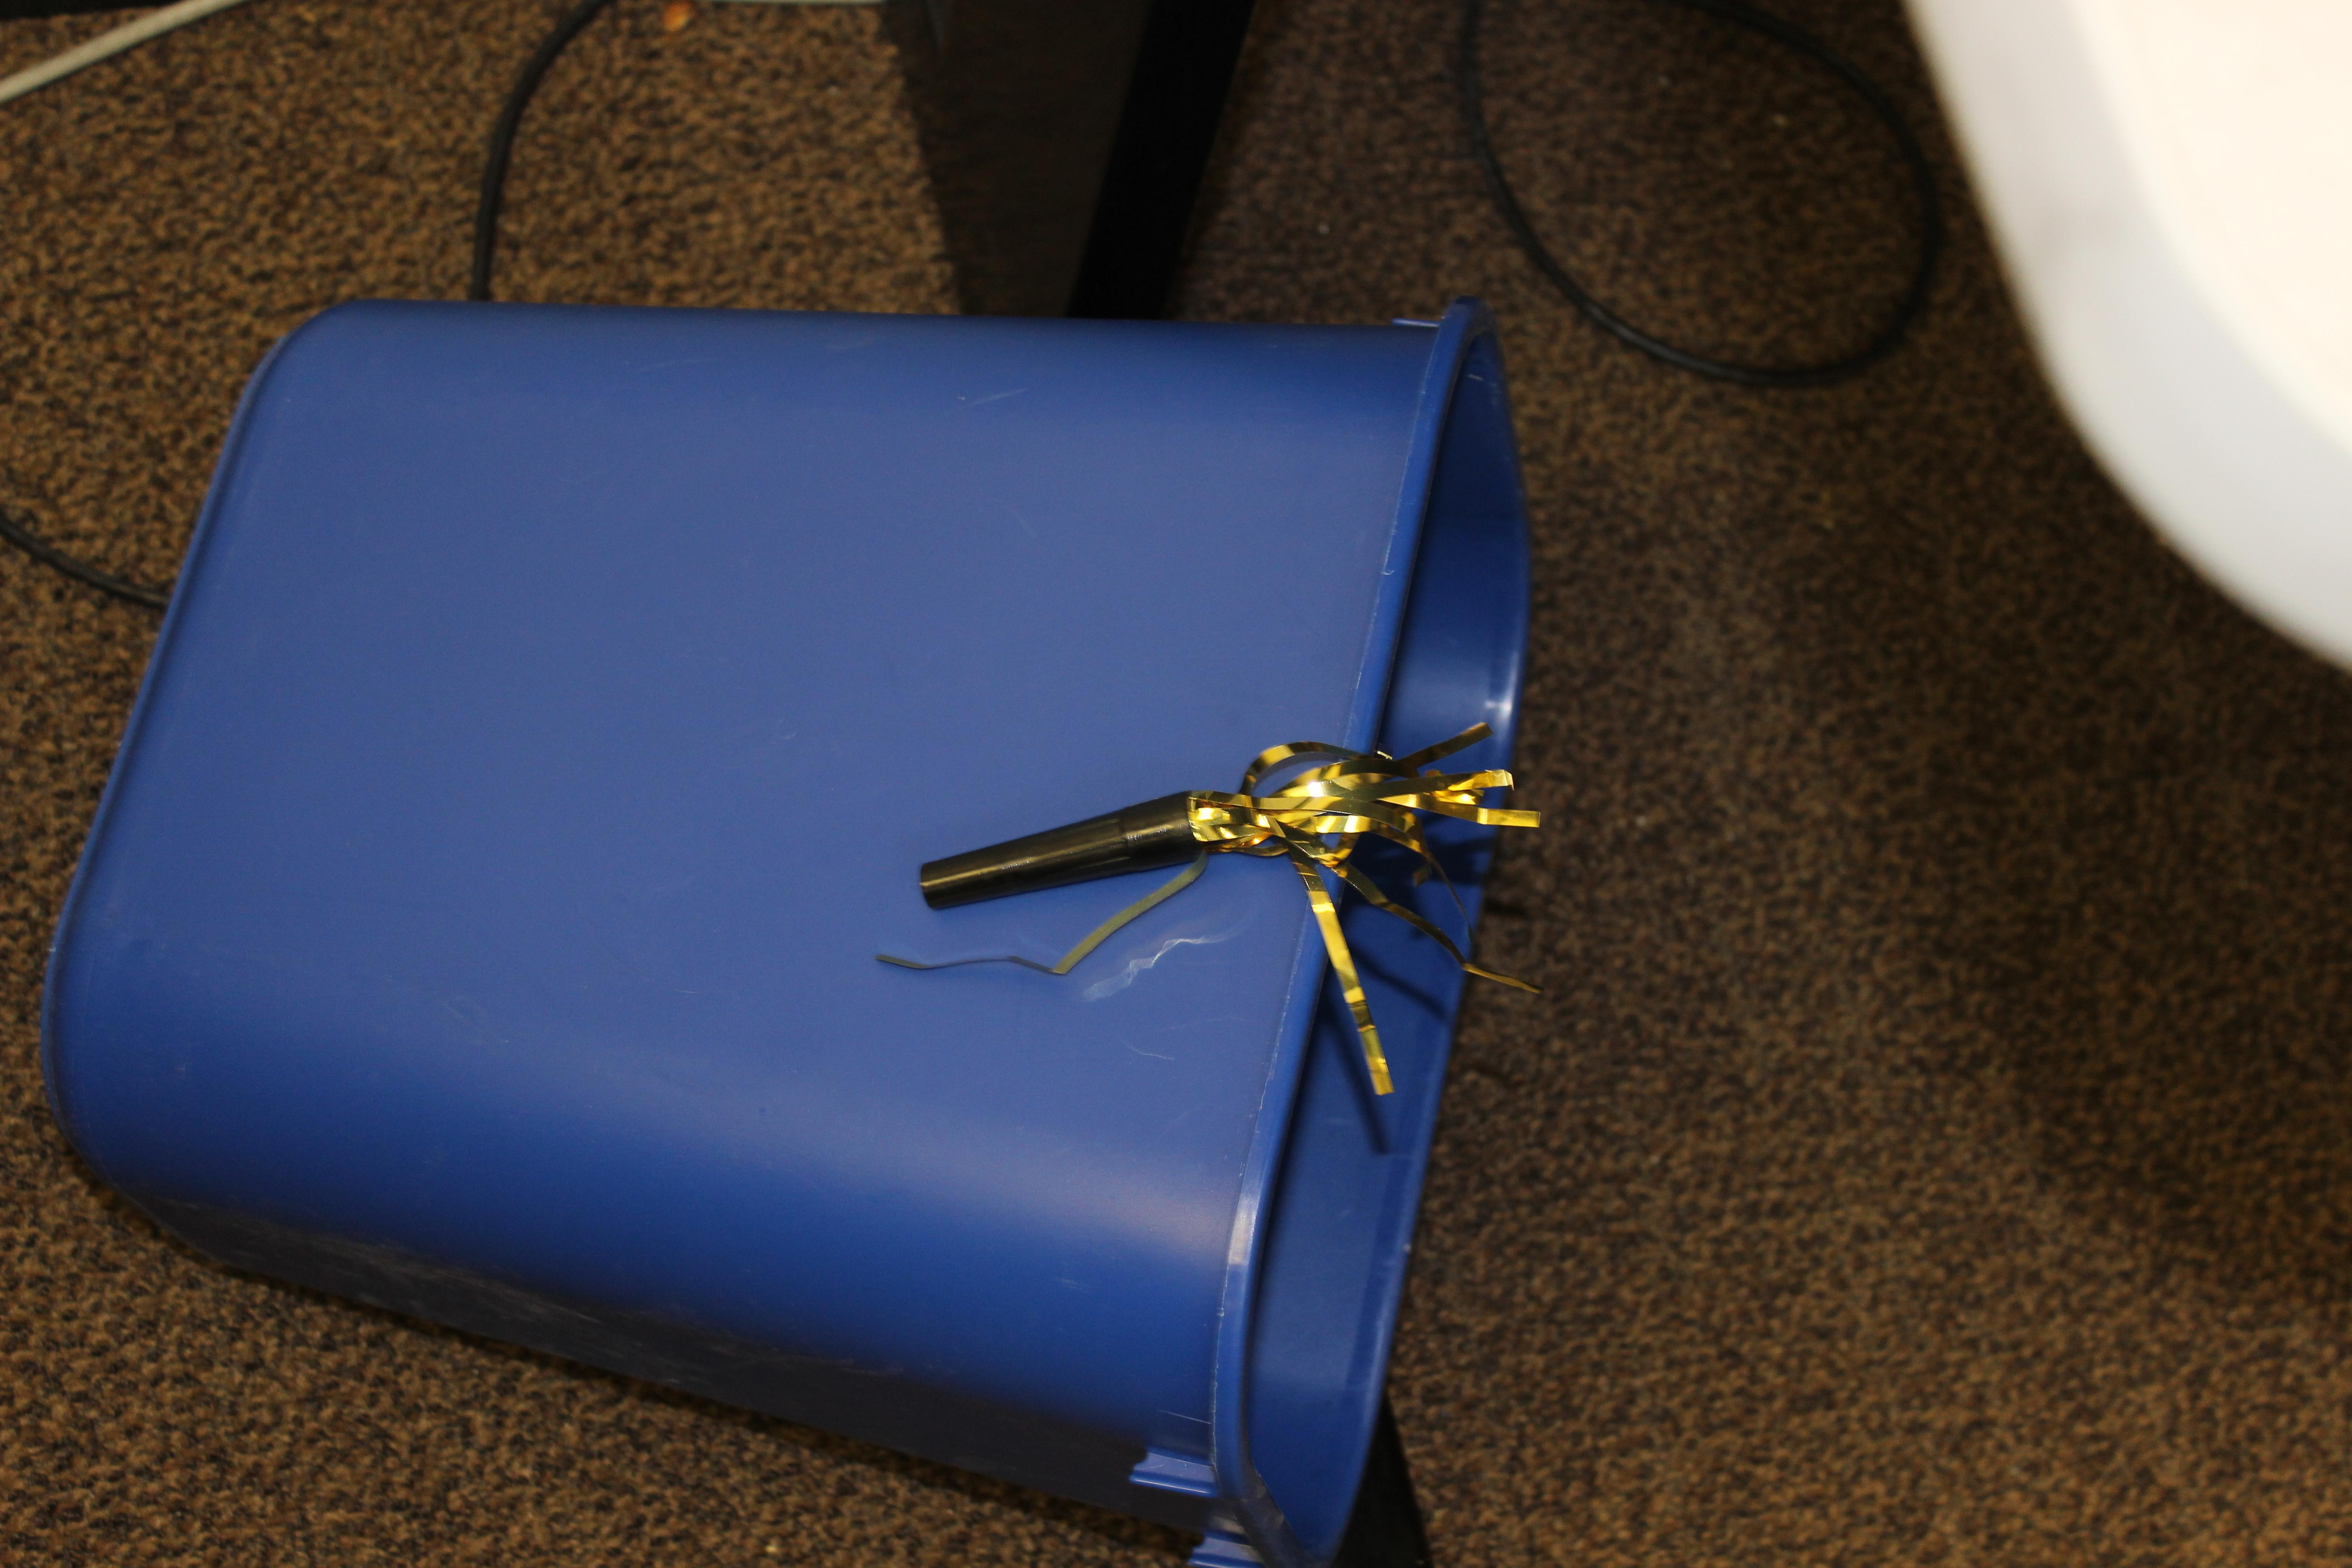partyFavor: (854, 691, 1582, 1120)
